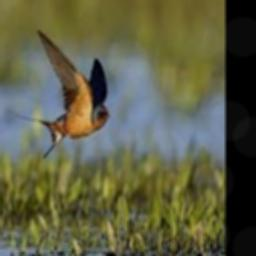Swallow: (15, 29, 109, 159)
